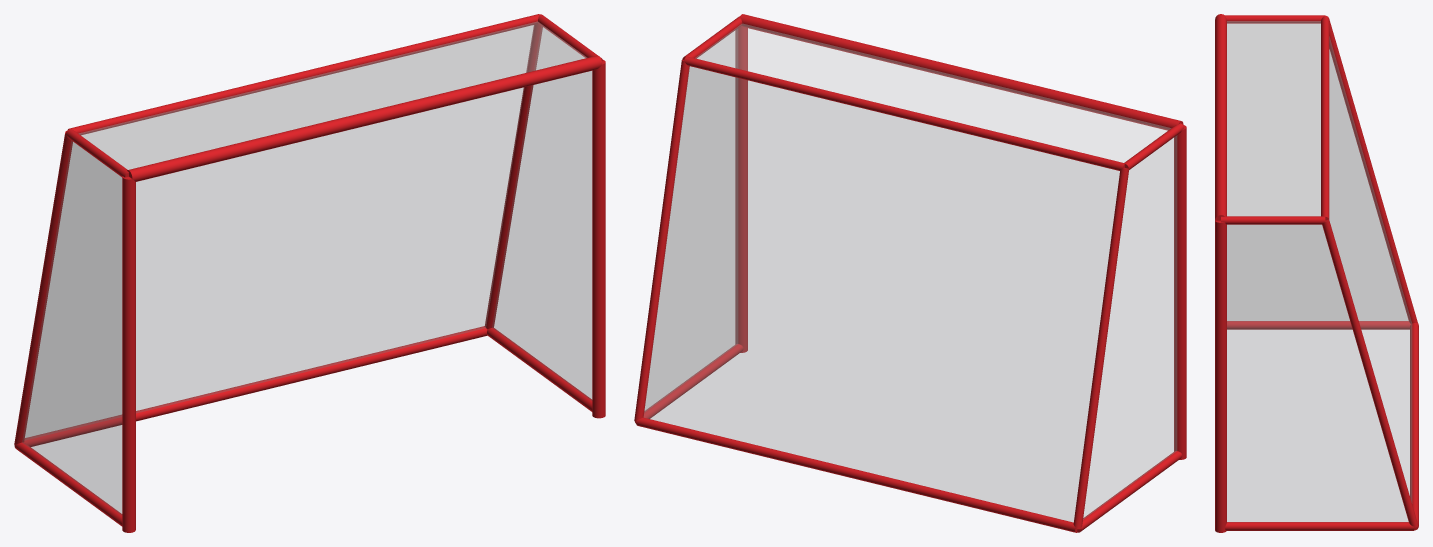
The model's file is sch-033.glb.
3 views of the same model, side by side, from view 1: azimuth 30°, elevation 25°; view 2: azimuth 150°, elevation 25°; view 3: azimuth 270°, elevation 25° (orthographic). The views are drawn at different scales.
Visible parts, largest first — view 1: goal_net, accent_red; view 2: goal_net, accent_red; view 3: goal_net, accent_red.
Boxes of the visible parts, bbox=[...] form: goal_net: bbox=[22, 21, 591, 514]; accent_red: bbox=[14, 14, 605, 532]; goal_net: bbox=[644, 24, 1176, 522]; accent_red: bbox=[634, 14, 1186, 532]; goal_net: bbox=[1227, 21, 1411, 521]; accent_red: bbox=[1215, 14, 1418, 532].
Size of the model in its own units: 1.64 by 1.17 by 0.685.
